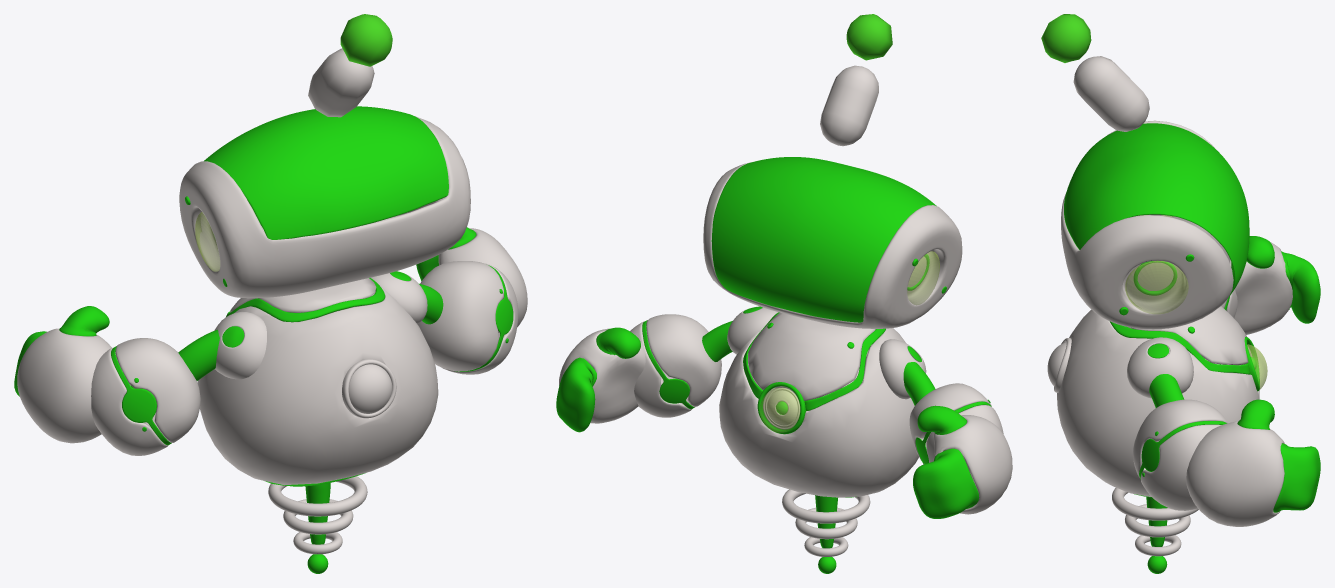
Rendered from Zeth Correct.fbx.
The picture shows the model from 3 angles, left to right: view 1: azimuth 30°, elevation 25°; view 2: azimuth 150°, elevation 25°; view 3: azimuth 270°, elevation 25°; orthographic projection. The views are drawn at different scales.
Parts seen in each view (by area): view 1: cuerpo n, Bolita, vidrios; view 2: cuerpo n, vidrios, Bolita; view 3: cuerpo n, vidrios, Bolita.
Part boxes in pixels (bbox=[...]): cuerpo n: bbox=[14, 48, 527, 573]; Bolita: bbox=[340, 14, 392, 66]; vidrios: bbox=[195, 212, 219, 271]; cuerpo n: bbox=[556, 65, 1012, 573]; vidrios: bbox=[760, 251, 939, 432]; Bolita: bbox=[846, 14, 892, 60]; cuerpo n: bbox=[1047, 56, 1320, 573]; vidrios: bbox=[1125, 215, 1267, 389]; Bolita: bbox=[1041, 14, 1091, 62].
Size of the model in its own units: 421 by 491 by 223.
